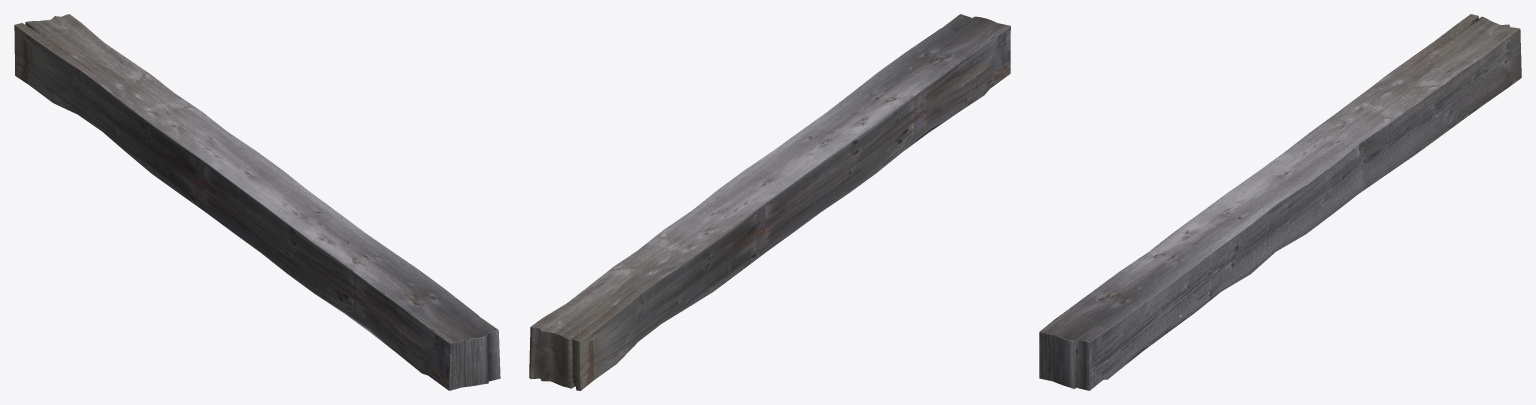
File: sm_WoodPlank_02_04.fbx
The picture shows the model from 3 angles, left to right: view 1: azimuth 30°, elevation 25°; view 2: azimuth 150°, elevation 25°; view 3: azimuth 330°, elevation 25°; orthographic projection.
Visible parts, largest first — view 1: sm_WoodPlank_02_04_LOD0; view 2: sm_WoodPlank_02_04_LOD0; view 3: sm_WoodPlank_02_04_LOD0.
Boxes of the visible parts, x1=… form: sm_WoodPlank_02_04_LOD0: x1=14, y1=14, x2=500, y2=390; sm_WoodPlank_02_04_LOD0: x1=529, y1=14, x2=1010, y2=390; sm_WoodPlank_02_04_LOD0: x1=1039, y1=14, x2=1521, y2=390.
Bounding box in the file's own units: 20.92 × 301 × 19.98.
